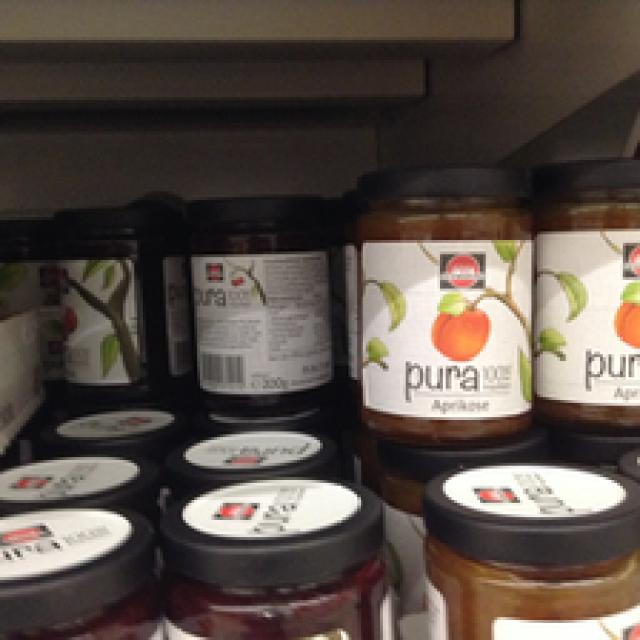groceries: (354, 163, 537, 437), (420, 454, 634, 637), (157, 474, 397, 637), (180, 191, 334, 403), (537, 154, 637, 426), (48, 203, 185, 394)
